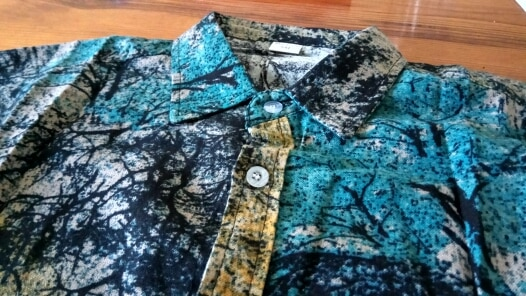shirts: (3, 16, 524, 296)
